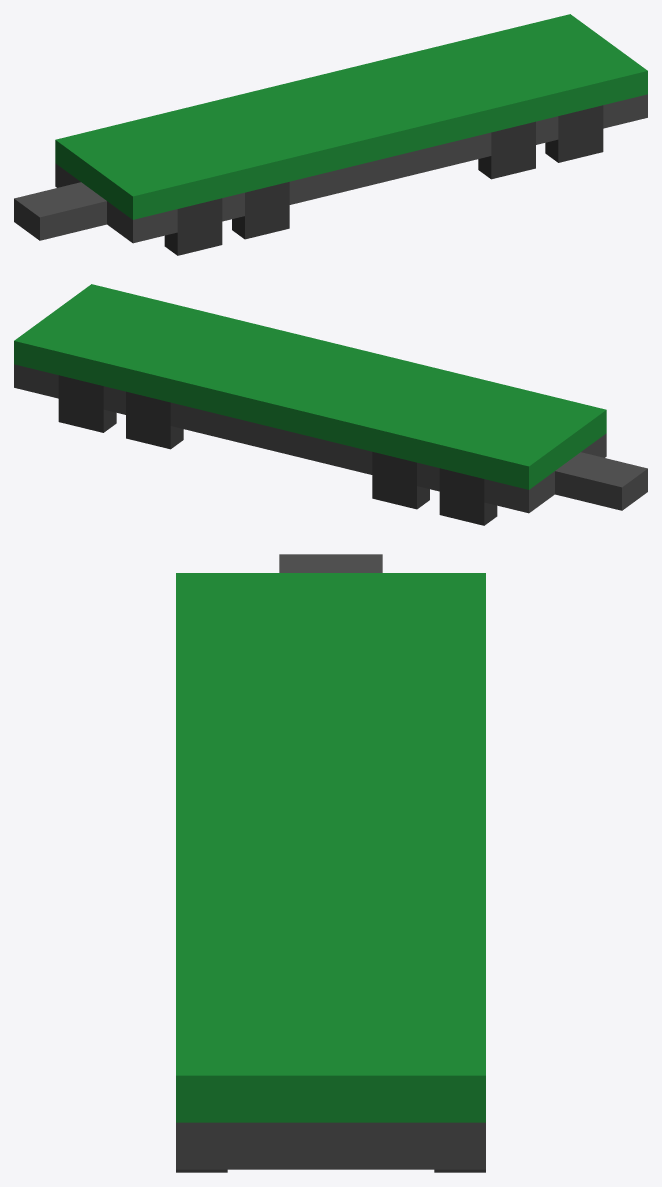
Rendered from train-trailer-v6-green.gltf.
3 renders of one model, top to bottom at view 1: azimuth 30°, elevation 25°; view 2: azimuth 150°, elevation 25°; view 3: azimuth 270°, elevation 25°, orthographic. The views are drawn at different scales.
Parts seen in each view (by area): view 1: model, wheels; view 2: model, wheels; view 3: model.
Part boxes in pixels (x1,y1,x2,y2): model: (14, 14, 647, 243); wheels: (164, 105, 603, 255); model: (14, 284, 647, 513); wheels: (58, 375, 497, 525); model: (176, 554, 485, 1169).
Bounding box in the file's own units: 2.6 × 0.3 × 0.6.
Materials: 2 (2 with a texture image).
